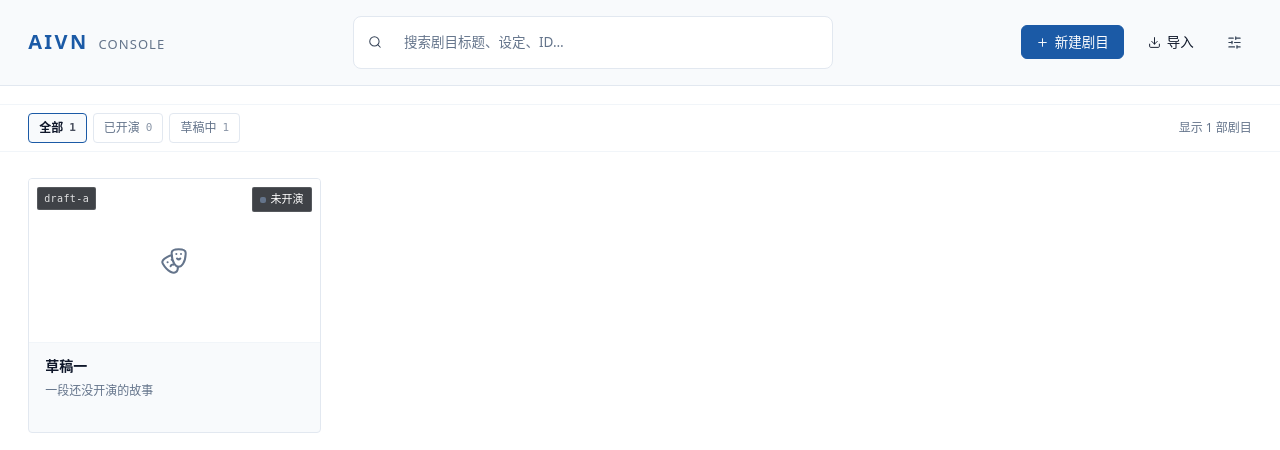
剧目库的空状态文案 › 搜索无结果：仍是关键词的文案，并给一颗清除搜索的键
The width and height of the screenshot is (1280, 450).
Expected: the heading "草稿一" is shown, [45,356,87,375]
In the search field with placeholder "搜索剧目标题、设定、ID…": {"x": 605, "y": 42} [392,23,818,62], type "不存在的剧"
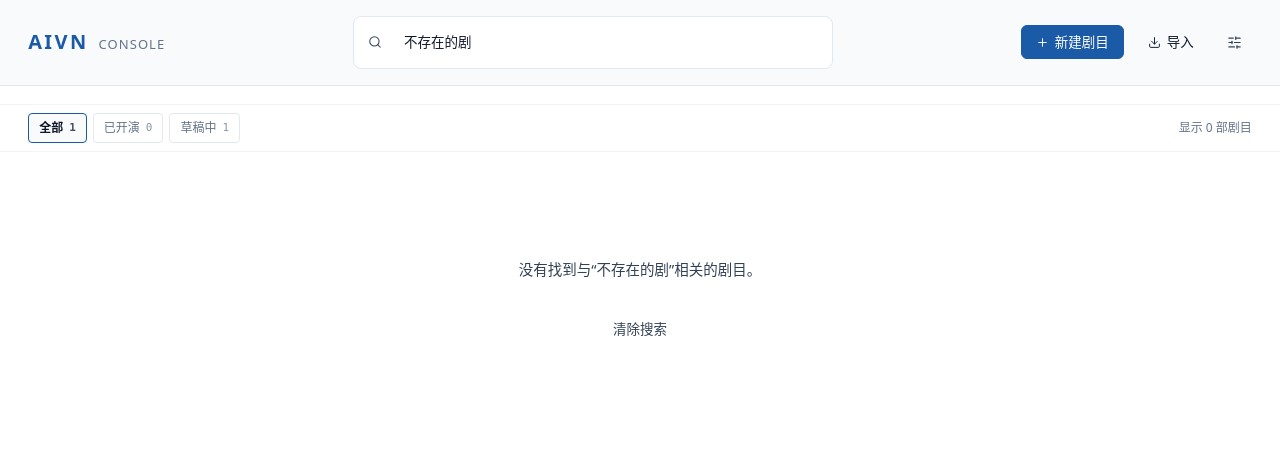
Expected: the text "没有找到与“不存在的剧”相关的剧目。" is shown, [519,257,761,281]
Click the button "清除搜索": {"x": 640, "y": 329} [605,312,675,347]
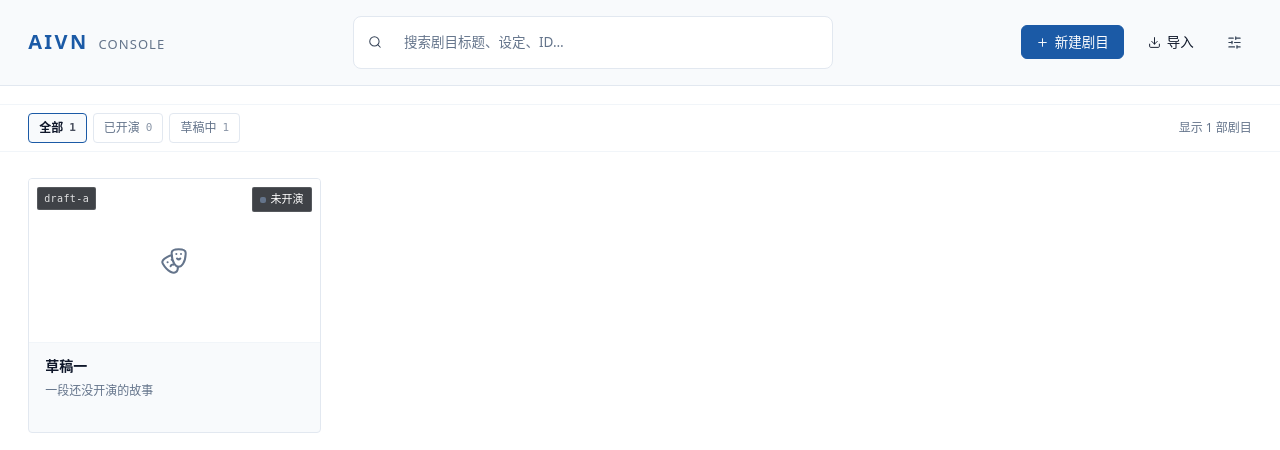
Expected: the heading "草稿一" is shown, [45,356,87,375]
